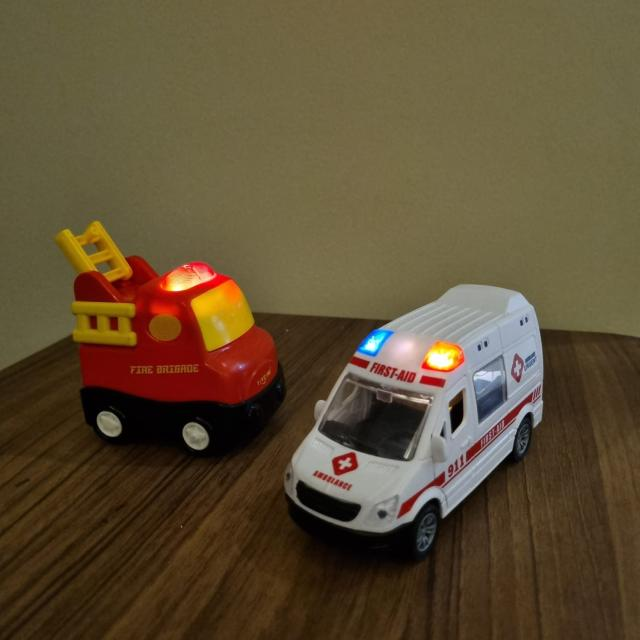emergency-vehicle: (286, 281, 546, 559)
